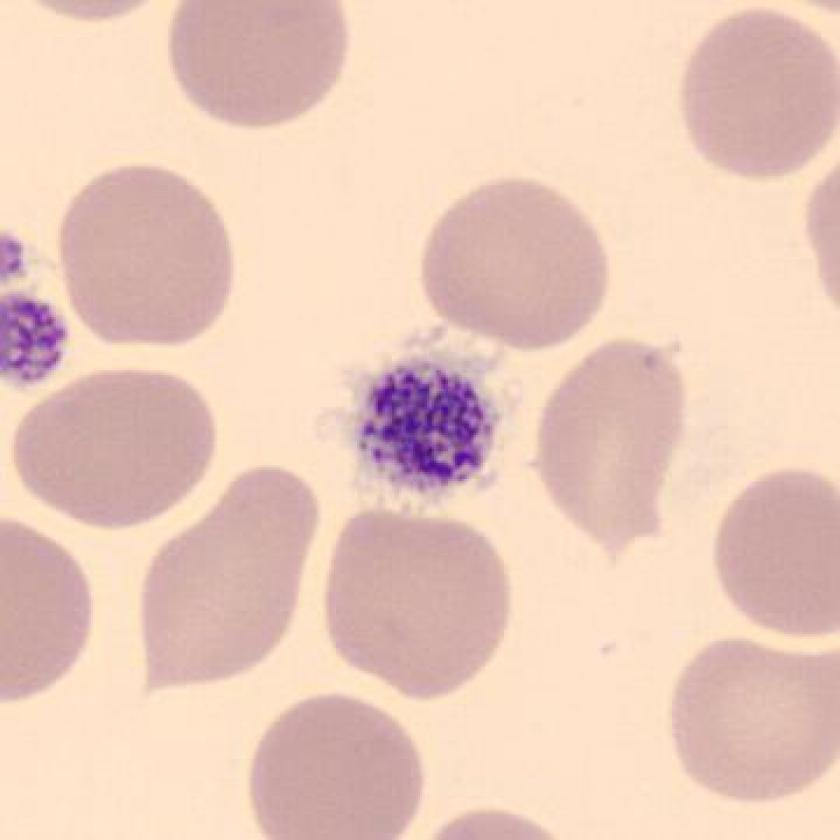platelets: (339, 346, 510, 508)
